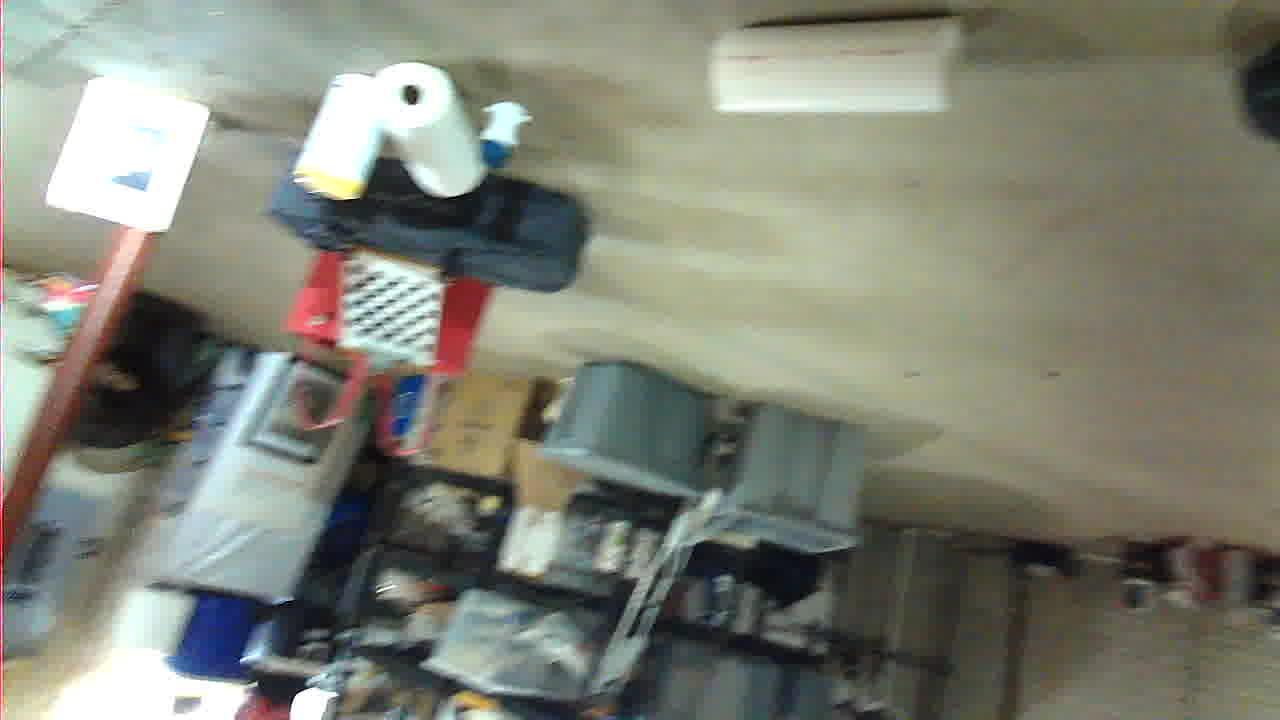coral: (323, 612, 564, 693)
